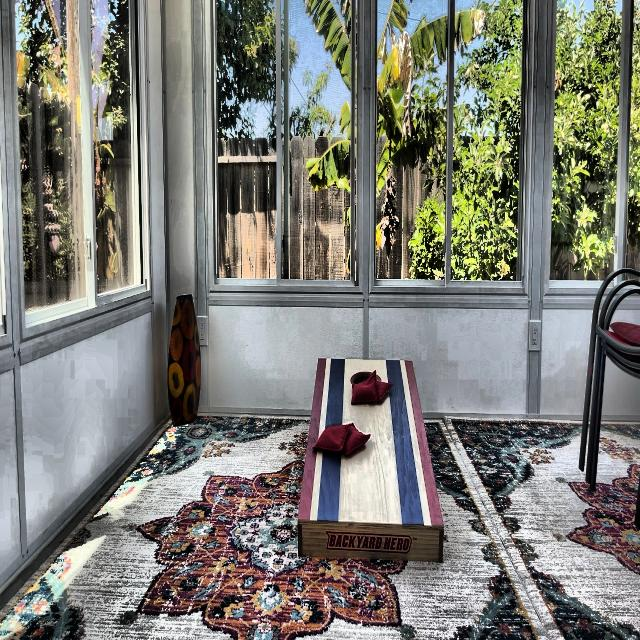board: (312, 359, 422, 519)
hole: (351, 371, 381, 389)
red-bean-bag: (312, 423, 350, 452), (342, 422, 371, 456), (352, 372, 378, 404), (370, 381, 393, 402)
